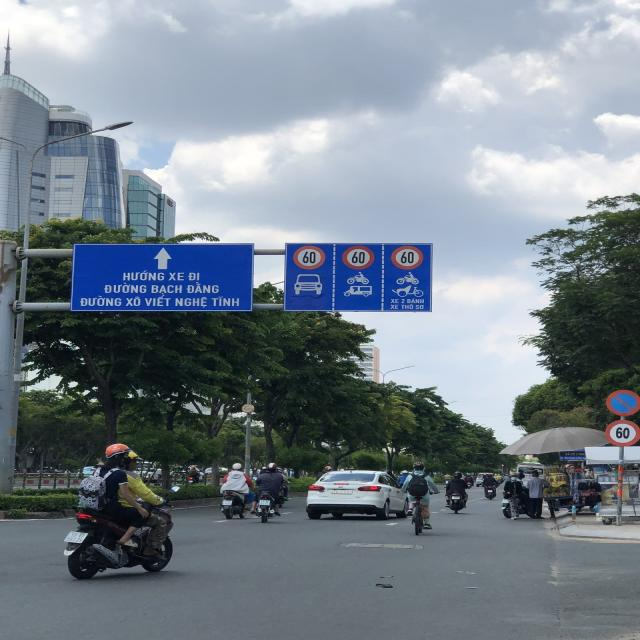Bien bao cam do xe: (600, 384, 640, 419)
Bien bao toc do toi da cho phep: (603, 419, 640, 449), (292, 242, 327, 270), (388, 243, 425, 269), (342, 244, 374, 272)
